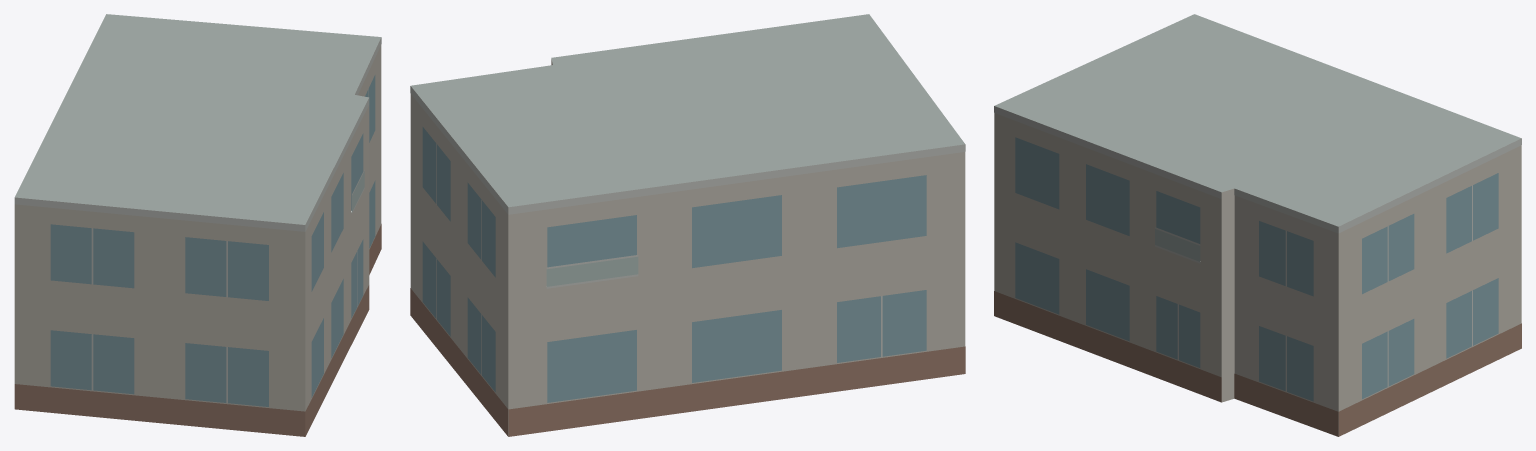
File: survey-upis-32995209.glb
The picture shows the model from 3 angles, left to right: view 1: azimuth 30°, elevation 25°; view 2: azimuth 150°, elevation 25°; view 3: azimuth 270°, elevation 25°; orthographic projection. The views are drawn at different scales.
Visible parts, largest first — view 1: survey-upis-32995209.tmp; view 2: survey-upis-32995209.tmp; view 3: survey-upis-32995209.tmp.
Part boxes in pixels (x1,y1,x2,y2): survey-upis-32995209.tmp: [14, 14, 381, 436]; survey-upis-32995209.tmp: [410, 14, 965, 436]; survey-upis-32995209.tmp: [994, 14, 1521, 436].
Bounding box in the file's own units: 16.29 × 7.5 × 17.07.
